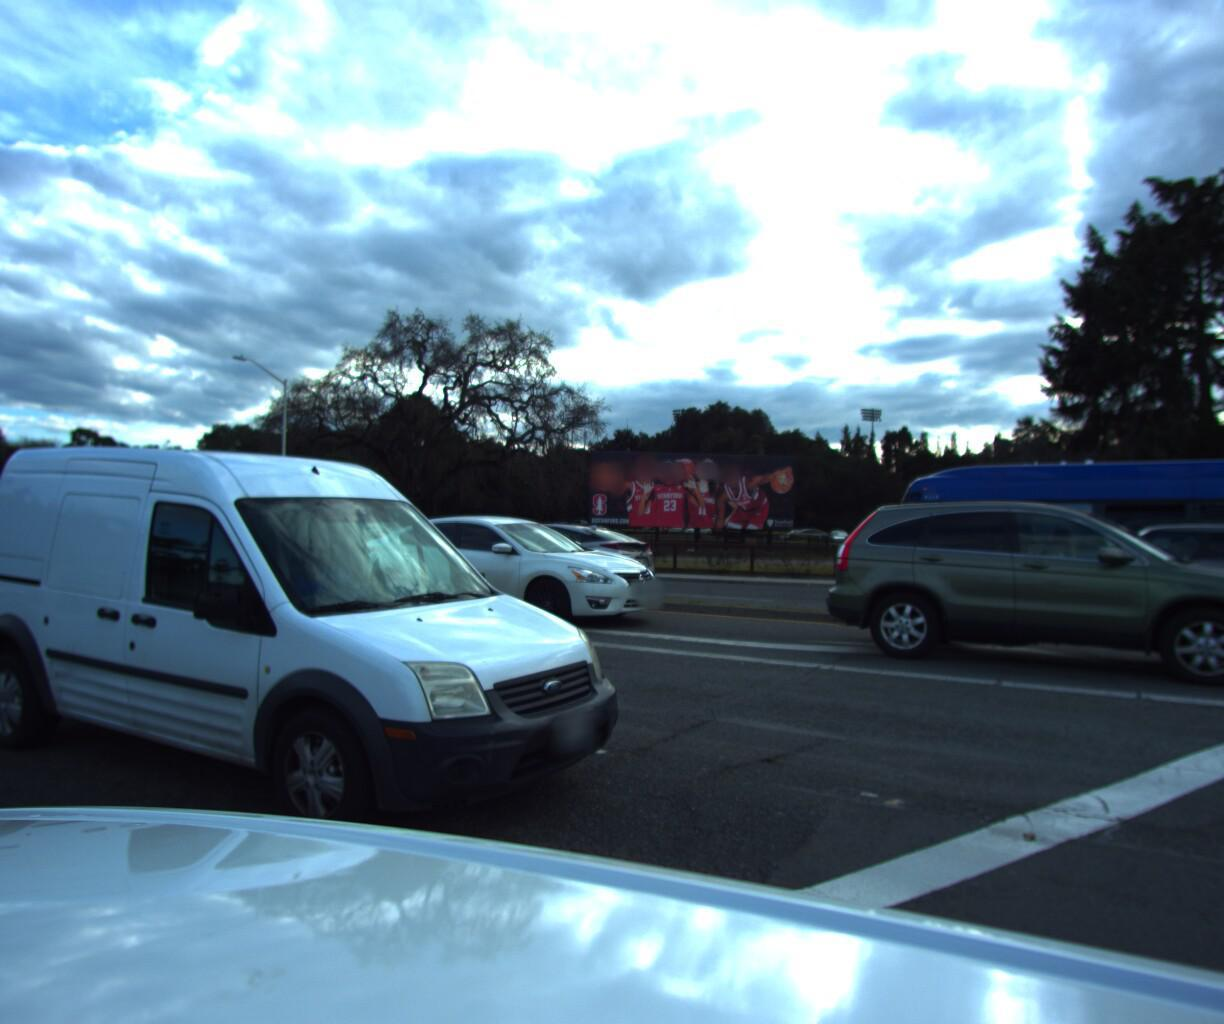bus: (870, 423, 1224, 687)
car: (0, 401, 669, 919), (806, 496, 1224, 702), (329, 509, 678, 630), (1022, 509, 1224, 641), (437, 518, 668, 596), (0, 505, 106, 576)
